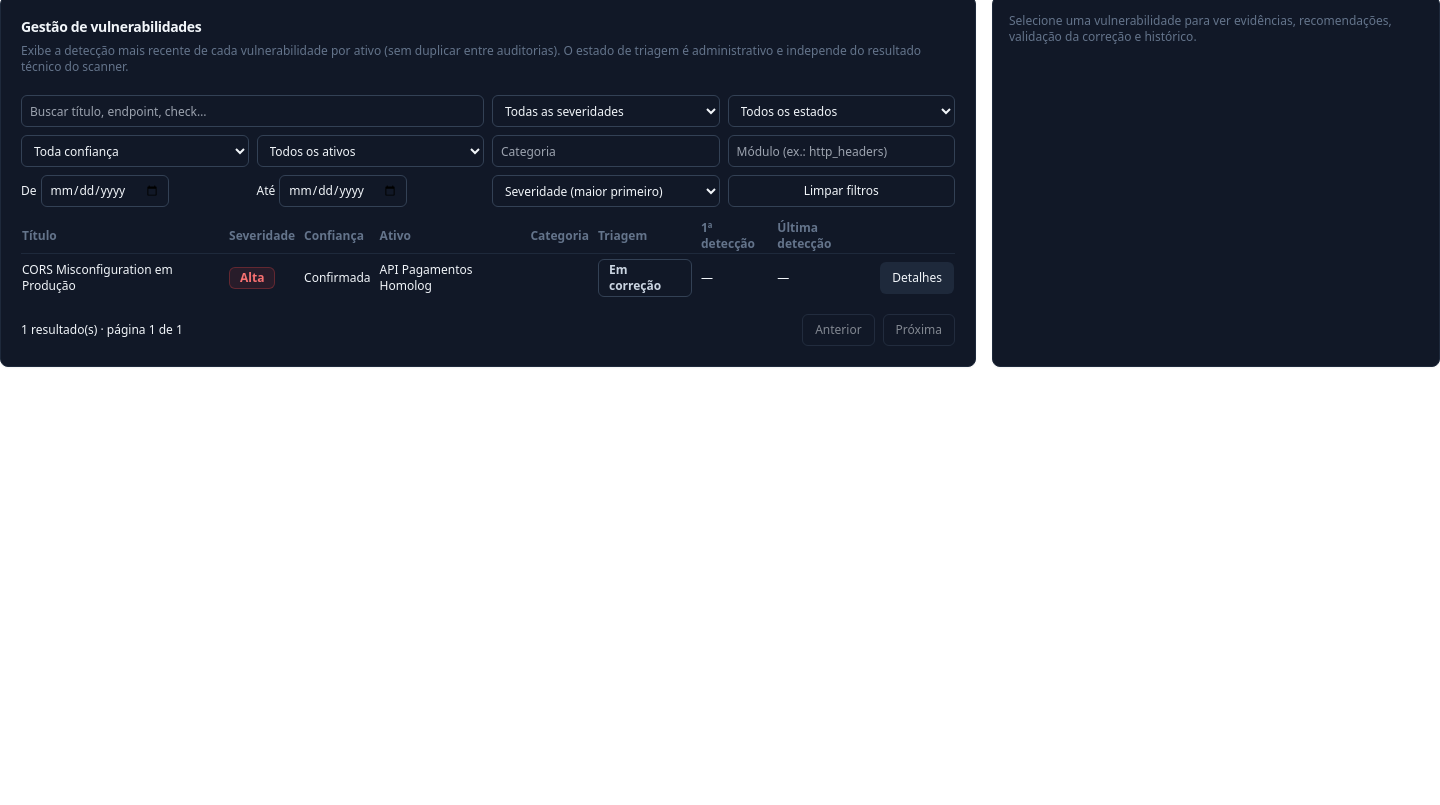
Test: Fase 6 — Relatórios, Comparação e Gestão de Correções (TM-018) › Revalidação Técnica em Detalhes da Vulnerabilidade (VulnerabilitiesPanel) › permite solicitar revalidação técnica diretamente no modal de detalhes
Click the button with aria-label "Ver detalhes de CORS Misconfiguration": (917, 278) [880,262,954,294]
(page scrolled)
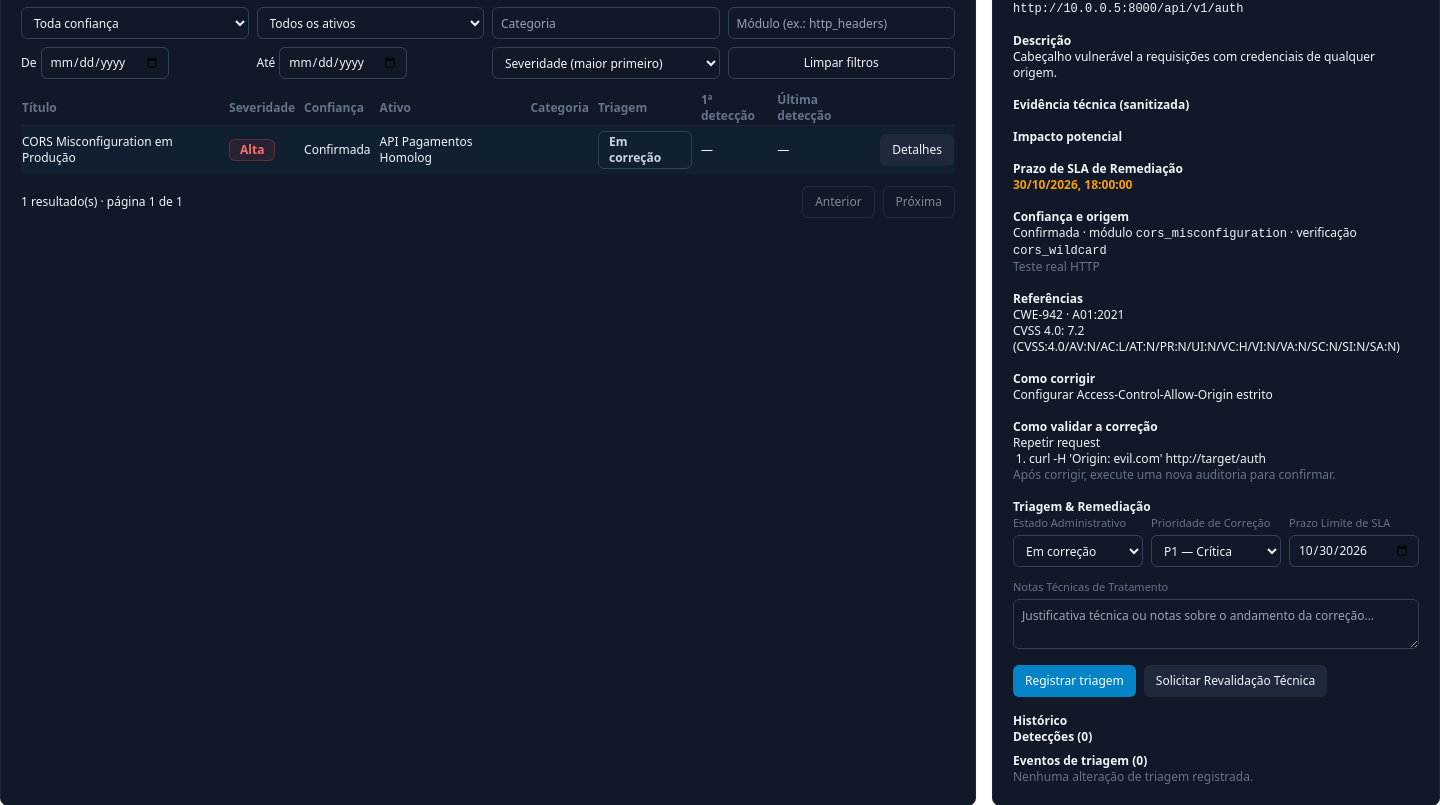
expect the heading "Prazo de SLA de Remediação" is shown: met, box [1013,160,1183,177]
Click the button "Solicitar Revalidação Técnica": (1236, 681) [1144,665,1327,697]
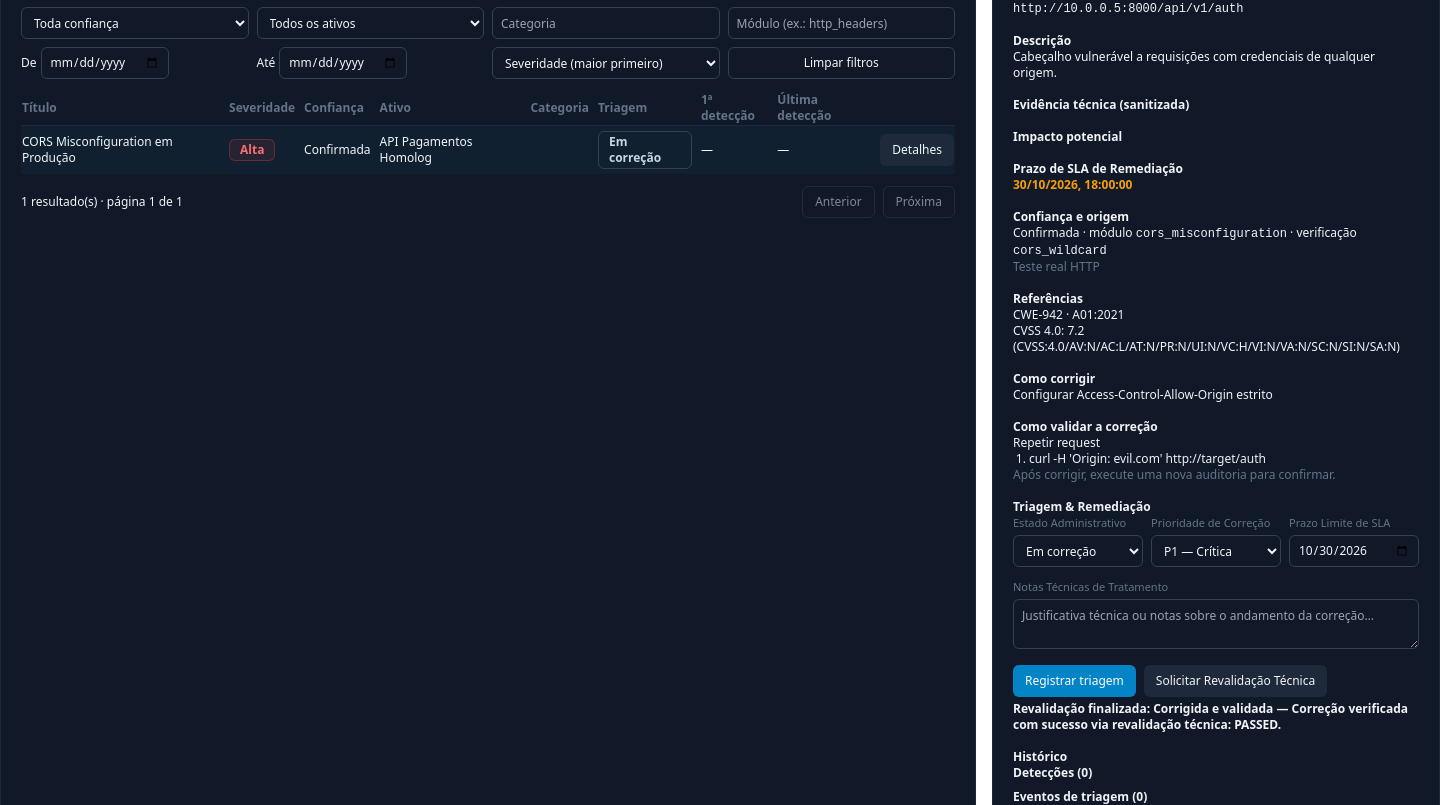
expect the text "Revalidação finalizada: Corrigida e validada" is shown: met, box [1013,700,1408,733]
